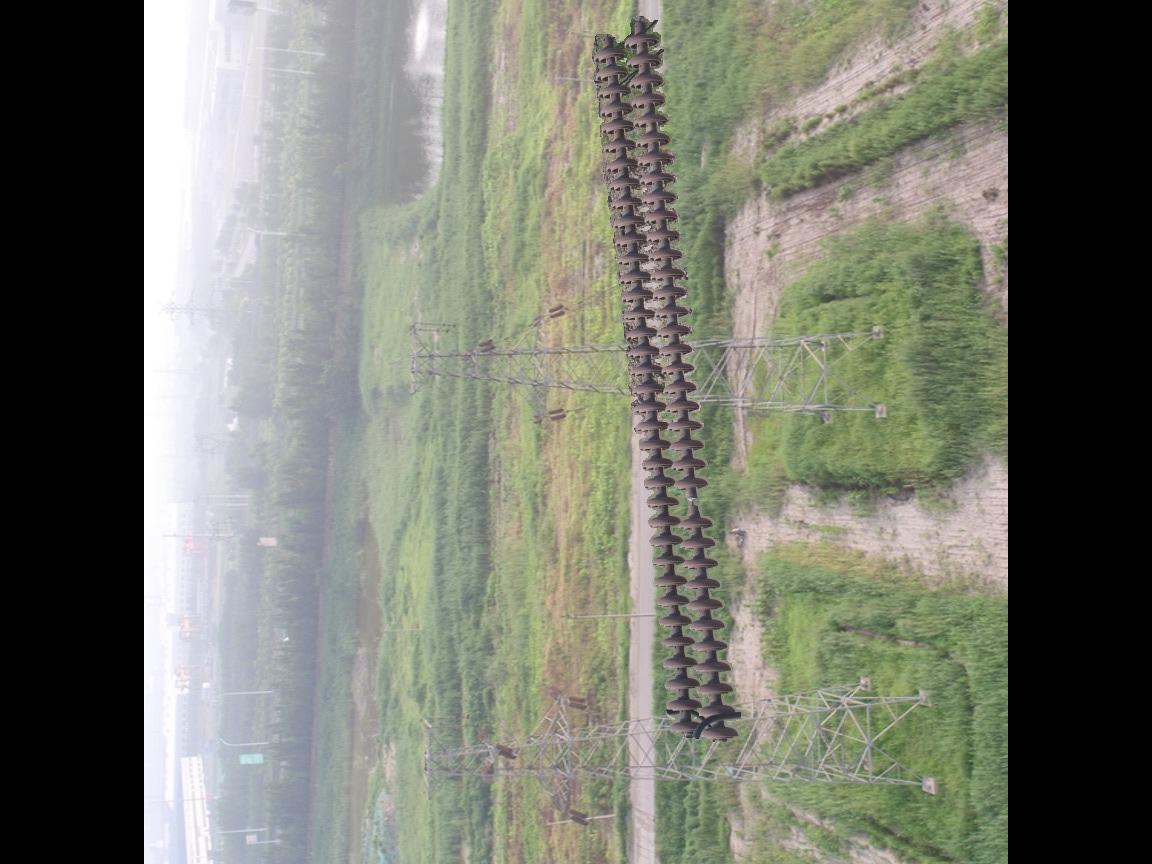insulator: (588, 23, 744, 750)
insulator_stringdrop: (671, 474, 717, 533)
